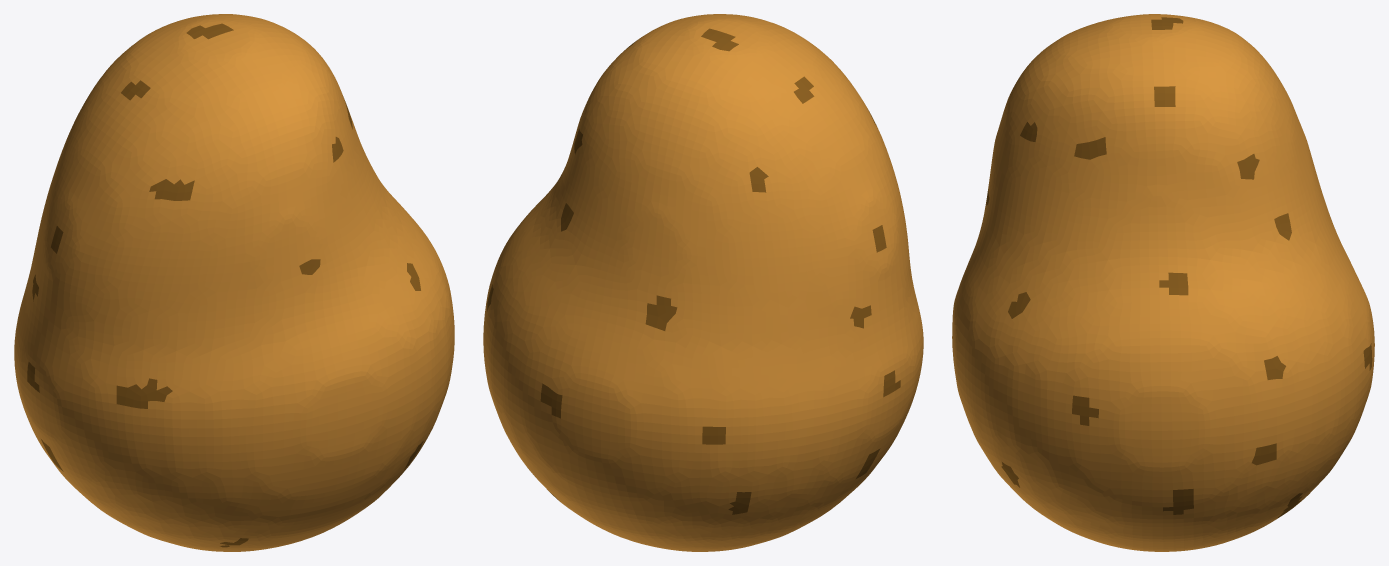
The model's file is potato.fbx.
3 renders of one model, left to right at view 1: azimuth 30°, elevation 25°; view 2: azimuth 150°, elevation 25°; view 3: azimuth 270°, elevation 25°, orthographic.
Visible parts, largest first — view 1: Sphere; view 2: Sphere; view 3: Sphere.
Part boxes in pixels (left/top/right/bottom): Sphere: left=14, top=14, right=454, bottom=551; Sphere: left=483, top=14, right=923, bottom=551; Sphere: left=952, top=14, right=1374, bottom=551.
Bounding box in the file's own units: 207 × 256 × 197.
